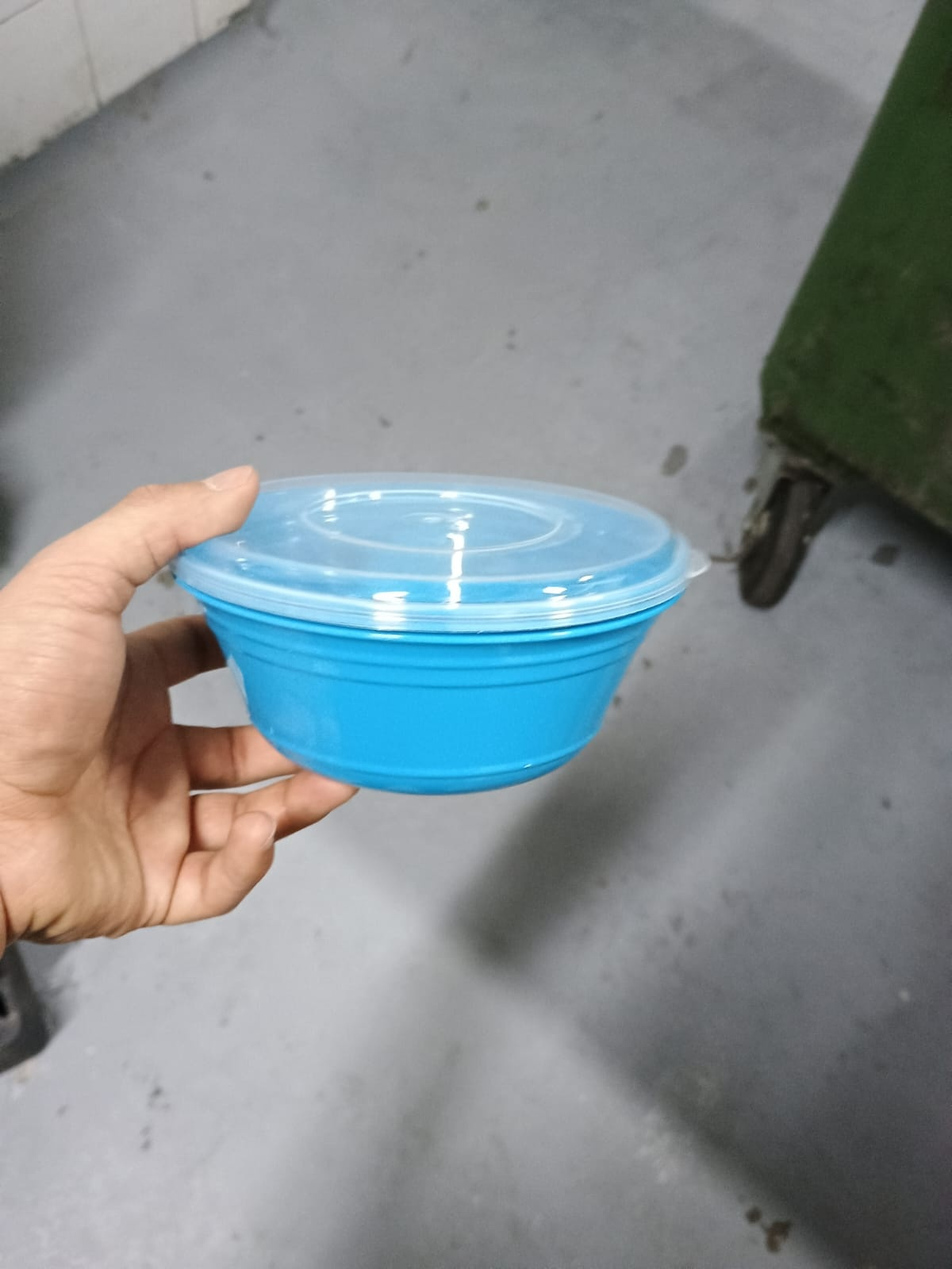Plastico: (154, 473, 713, 795)
